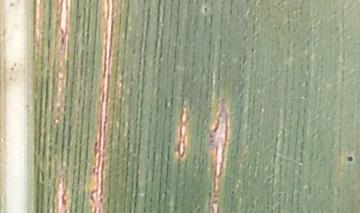tarspot: (202, 5, 211, 15), (345, 154, 356, 162)
